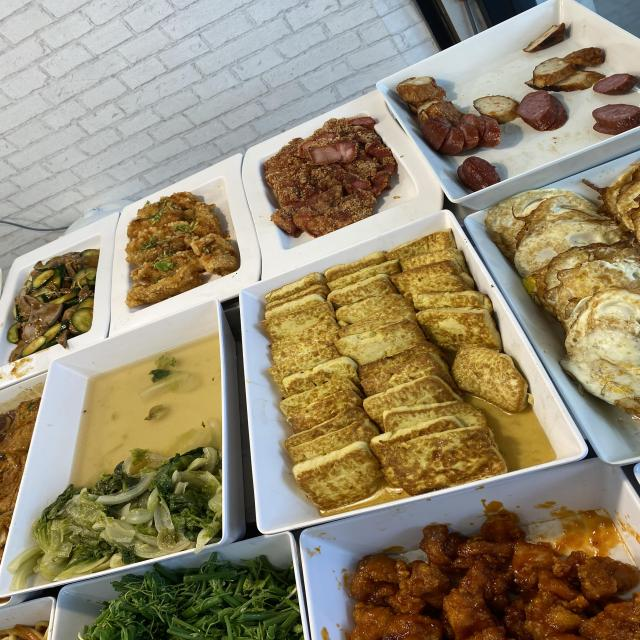Fushan-lettuce: (61, 493, 192, 544)
Pan Fried Tofu: (283, 297, 487, 438)
